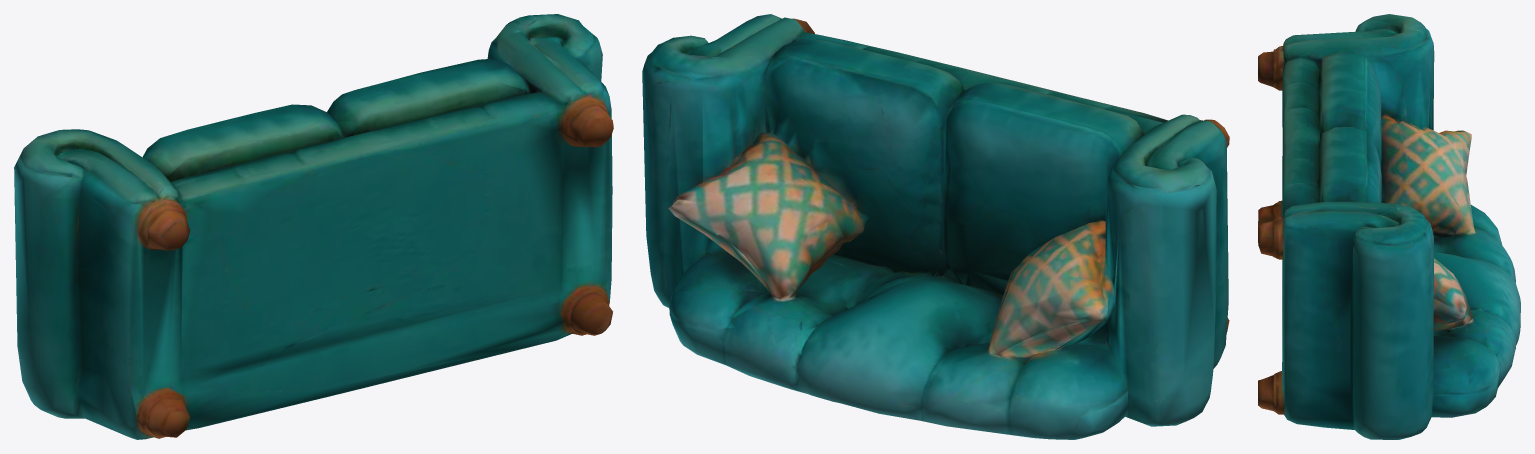
The picture shows the model from 3 angles, left to right: view 1: azimuth 30°, elevation 25°; view 2: azimuth 150°, elevation 25°; view 3: azimuth 270°, elevation 25°; orthographic projection. The views are drawn at different scales.
Parts seen in each view (by area): view 1: material; view 2: material; view 3: material.
Boxes of the visible parts, left/top/right/bottom form: material: left=14, top=14, right=613, bottom=439; material: left=642, top=14, right=1229, bottom=439; material: left=1258, top=14, right=1520, bottom=439.
Size of the model in its own units: 1 by 0.4407 by 0.4833.
Materials: 1 (1 with a texture image).
